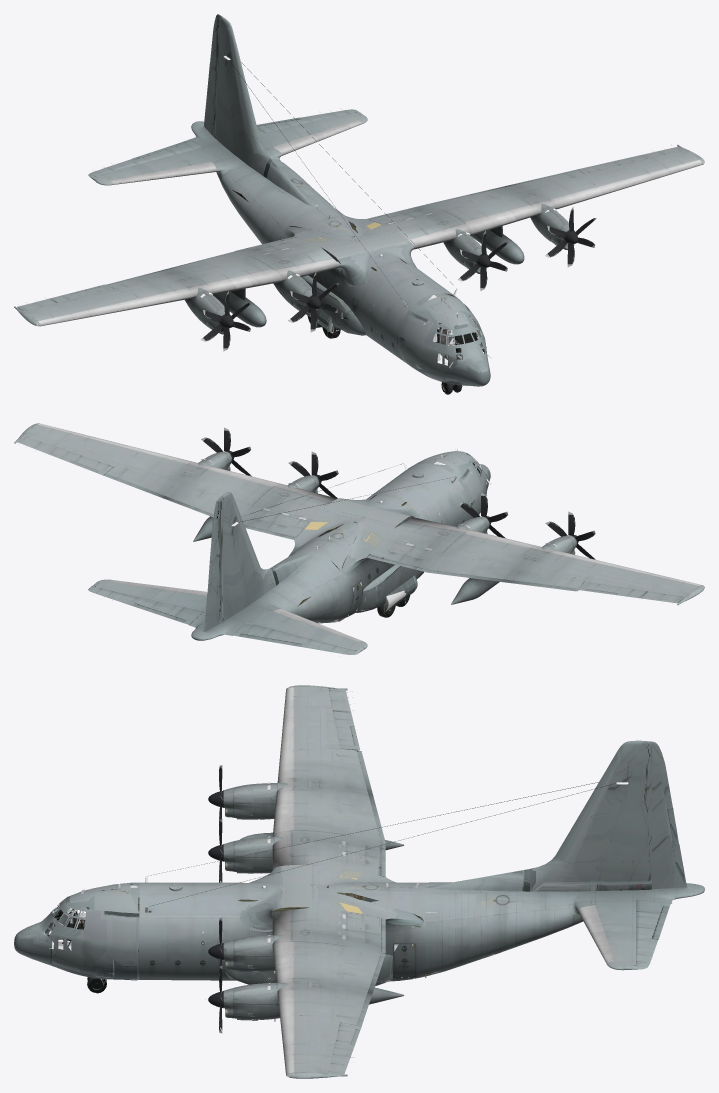
The picture shows the model from 3 angles, top to bottom: view 1: azimuth 30°, elevation 25°; view 2: azimuth 150°, elevation 25°; view 3: azimuth 270°, elevation 25°; orthographic projection. The views are drawn at different scales.
Parts seen in each view (by area): view 1: model_20_Material.006_0, model_51_Material.007_0, model_18_Material.003_0, model_3_Material.001_0, model_10_Material.002_0, model_8_Material_0, model_52_Material.005_0, model_17_Material.008_0, model_62.002_prop.002_0, model_62.003_prop.003_0, model_62_prop_0, model_62.001_prop.001_0; view 2: model_51_Material.007_0, model_20_Material.006_0, model_18_Material.003_0, model_10_Material.002_0, model_8_Material_0, model_3_Material.001_0, model_17_Material.008_0, model_52_Material.005_0, model_62.002_prop.002_0, model_62_prop_0, model_62.003_prop.003_0, model_62.001_prop.001_0; view 3: model_10_Material.002_0, model_51_Material.007_0, model_20_Material.006_0, model_3_Material.001_0, model_18_Material.003_0, model_8_Material_0, model_52_Material.005_0, model_17_Material.008_0.
Boxes of the visible parts, bbox=[...] form: model_20_Material.006_0: bbox=[17, 144, 704, 311]; model_51_Material.007_0: bbox=[14, 146, 683, 326]; model_18_Material.003_0: bbox=[95, 112, 367, 244]; model_3_Material.001_0: bbox=[95, 176, 490, 386]; model_10_Material.002_0: bbox=[204, 14, 365, 335]; model_8_Material_0: bbox=[280, 205, 457, 363]; model_52_Material.005_0: bbox=[185, 204, 574, 334]; model_17_Material.008_0: bbox=[88, 109, 576, 285]; model_62.002_prop.002_0: bbox=[457, 230, 508, 290]; model_62.003_prop.003_0: bbox=[545, 207, 596, 267]; model_62_prop_0: bbox=[201, 291, 251, 351]; model_62.001_prop.001_0: bbox=[288, 272, 339, 332]; model_51_Material.007_0: bbox=[17, 436, 704, 605]; model_20_Material.006_0: bbox=[14, 423, 683, 603]; model_18_Material.003_0: bbox=[95, 551, 367, 650]; model_10_Material.002_0: bbox=[204, 492, 423, 631]; model_8_Material_0: bbox=[288, 463, 469, 619]; model_3_Material.001_0: bbox=[232, 451, 490, 650]; model_17_Material.008_0: bbox=[88, 474, 576, 654]; model_52_Material.005_0: bbox=[193, 451, 577, 604]; model_62.002_prop.002_0: bbox=[288, 451, 338, 498]; model_62_prop_0: bbox=[545, 511, 595, 559]; model_62.003_prop.003_0: bbox=[201, 427, 251, 476]; model_62.001_prop.001_0: bbox=[458, 492, 507, 538]; model_10_Material.002_0: bbox=[225, 740, 686, 1020]; model_51_Material.007_0: bbox=[272, 685, 380, 1074]; model_20_Material.006_0: bbox=[272, 688, 380, 1078]; model_3_Material.001_0: bbox=[14, 865, 671, 980]; model_18_Material.003_0: bbox=[425, 882, 704, 972]; model_8_Material_0: bbox=[139, 882, 425, 981]; model_52_Material.005_0: bbox=[223, 751, 404, 1020]; model_17_Material.008_0: bbox=[357, 751, 670, 1025].
Bounding box in the file's own units: 801 × 238 × 598.
Materials: 14 (13 with a texture image).
